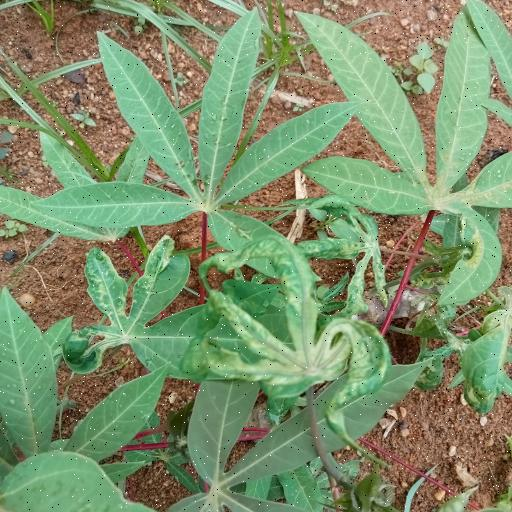Cassava_Mosaic: (304, 13, 512, 298), (200, 233, 392, 400), (65, 244, 178, 375)
